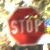stopsign: (7, 6, 46, 46)
